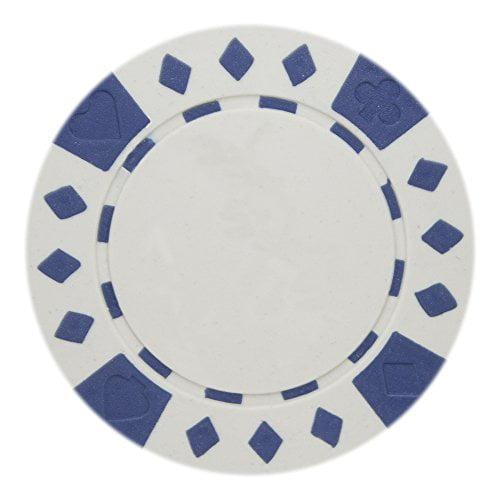chip-white: (27, 26, 473, 472)
